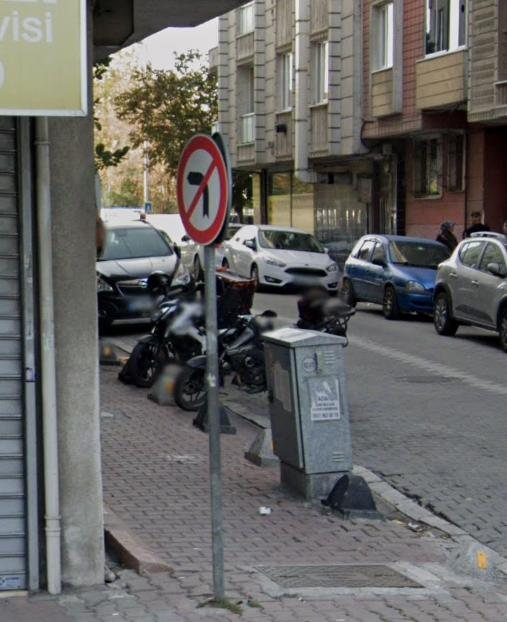leftturnsareforbidden: (170, 132, 234, 245)
